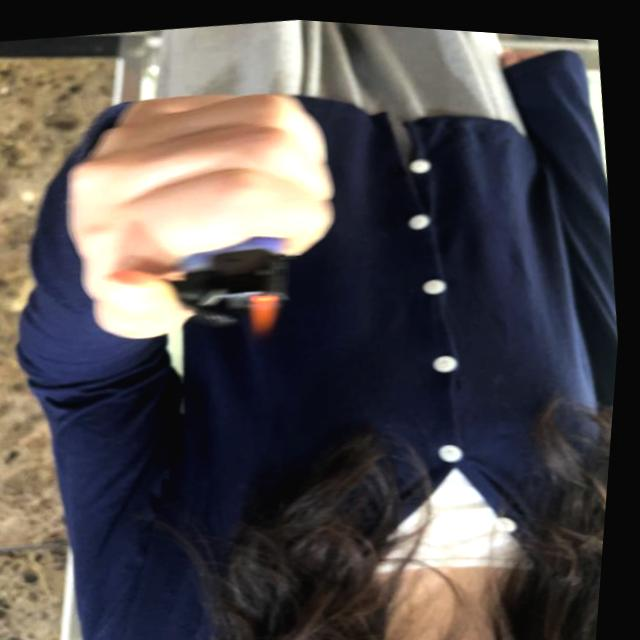helmet: (247, 287, 295, 336)
